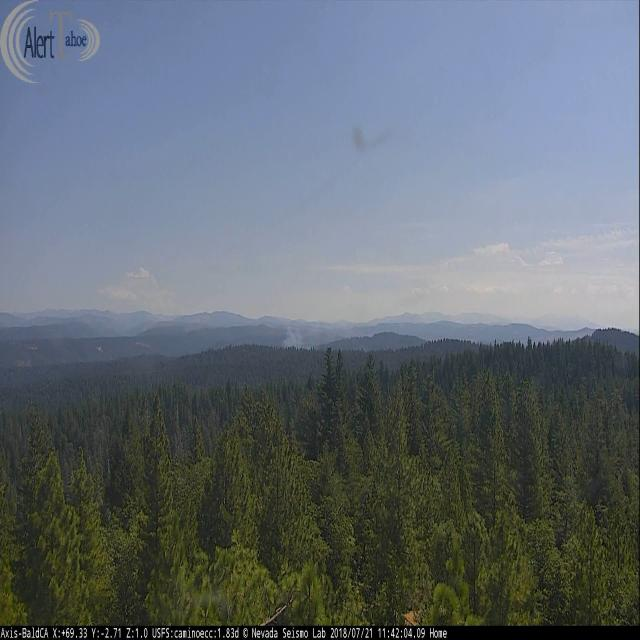smoke: (280, 325, 310, 348)
